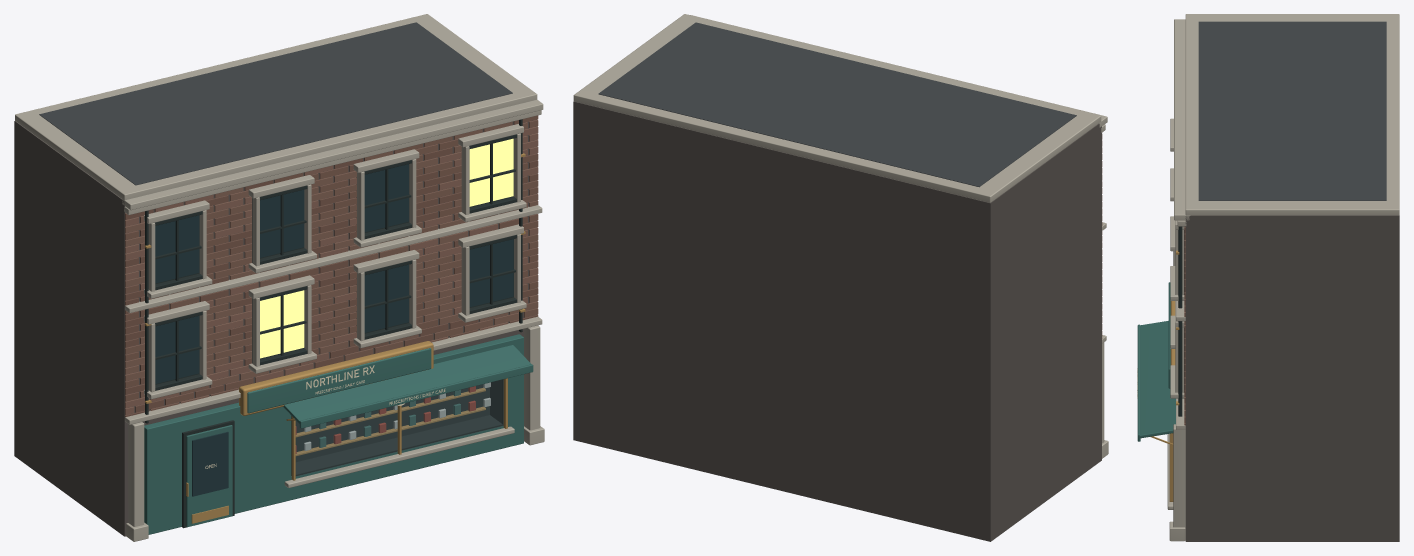
Rendered from district-northline-rx.glb.
The picture shows the model from 3 angles, left to right: view 1: azimuth 30°, elevation 25°; view 2: azimuth 150°, elevation 25°; view 3: azimuth 270°, elevation 25°; orthographic projection. The views are drawn at different scales.
Visible parts, largest first — view 1: Existing envelope, District Warm limestone, District Roof membrane, District Coffee enamel, District Charcoal painted metal, District Opaque dark glazing, Roof cap, District Shop window clear glazing, District Brick tone 3, District Brick tone 0, District Brick tone 4, District Brick tone 2 (+6 smaller); view 2: Existing envelope, District Roof membrane, Roof cap, District Warm limestone; view 3: Existing envelope, District Roof membrane, Roof cap, District Warm limestone, District Coffee enamel, District Charcoal painted metal, District Aged brass.
Part boxes in pixels (x1,y1,x2,y2): Existing envelope: [14, 119, 537, 536]; District Warm limestone: [122, 99, 544, 541]; District Roof membrane: [39, 22, 512, 185]; District Coffee enamel: [144, 334, 533, 534]; District Charcoal painted metal: [145, 119, 522, 528]; District Opaque dark glazing: [155, 164, 513, 496]; Roof cap: [15, 14, 537, 200]; District Shop window clear glazing: [296, 380, 503, 476]; District Brick tone 3: [125, 121, 538, 397]; District Brick tone 0: [125, 147, 538, 417]; District Brick tone 4: [125, 126, 538, 414]; District Brick tone 2: [125, 119, 538, 410]; Existing envelope: [573, 101, 1101, 541]; District Roof membrane: [598, 22, 1076, 187]; Roof cap: [573, 14, 1101, 202]; District Warm limestone: [690, 15, 1108, 458]; Existing envelope: [1185, 215, 1399, 541]; District Roof membrane: [1198, 21, 1386, 200]; Roof cap: [1185, 14, 1399, 215]; District Warm limestone: [1167, 19, 1190, 541]; District Coffee enamel: [1137, 321, 1175, 441]; District Charcoal painted metal: [1178, 226, 1184, 416]; District Aged brass: [1150, 250, 1179, 501].
Size of the model in its own units: 11.7 by 9.26 by 6.62.
